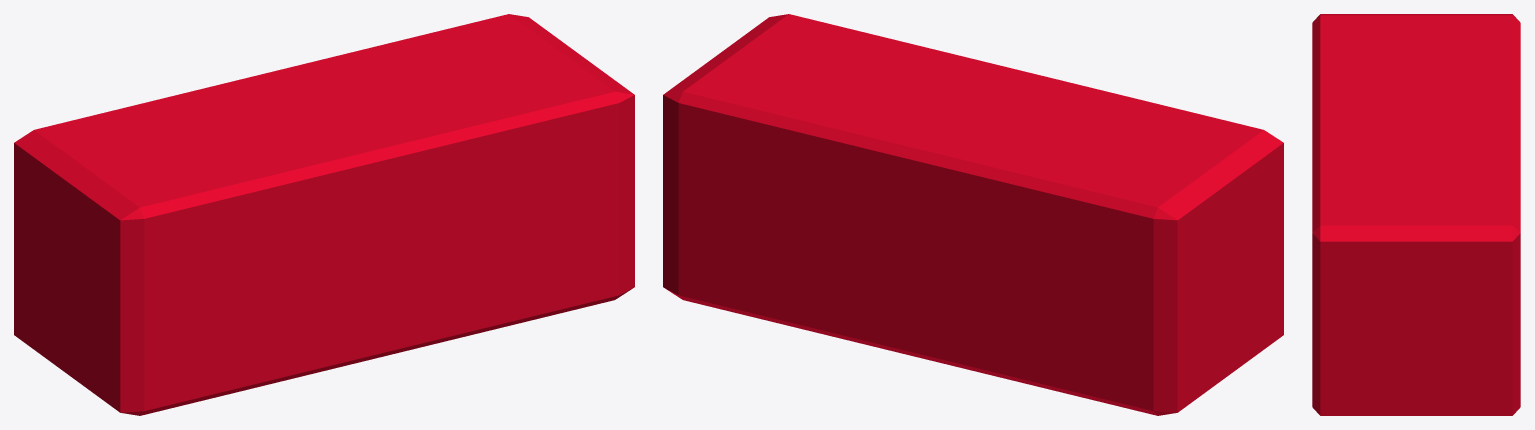
The model's file is red_block.glb.
The picture shows the model from 3 angles, left to right: view 1: azimuth 30°, elevation 25°; view 2: azimuth 150°, elevation 25°; view 3: azimuth 270°, elevation 25°; orthographic projection. The views are drawn at different scales.
Visible parts, largest first — view 1: Cube; view 2: Cube; view 3: Cube.
Boxes of the visible parts, x1=… form: Cube: x1=14, y1=14, x2=634, y2=415; Cube: x1=663, y1=14, x2=1283, y2=415; Cube: x1=1312, y1=14, x2=1520, y2=415.
Bounding box in the file's own units: 4.74 × 1.83 × 1.83.
